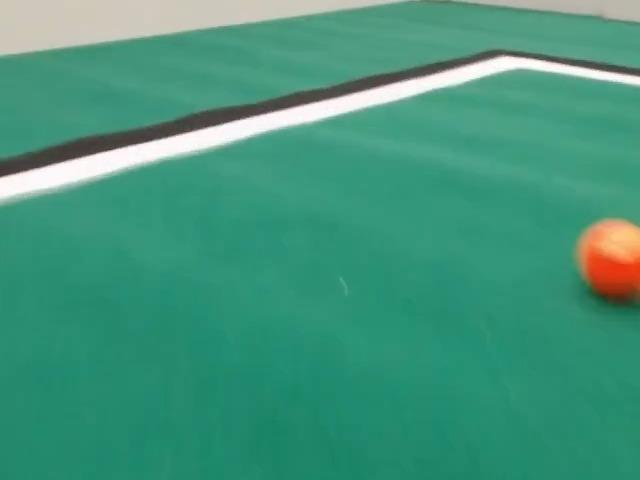Ball: (575, 219, 639, 301)
